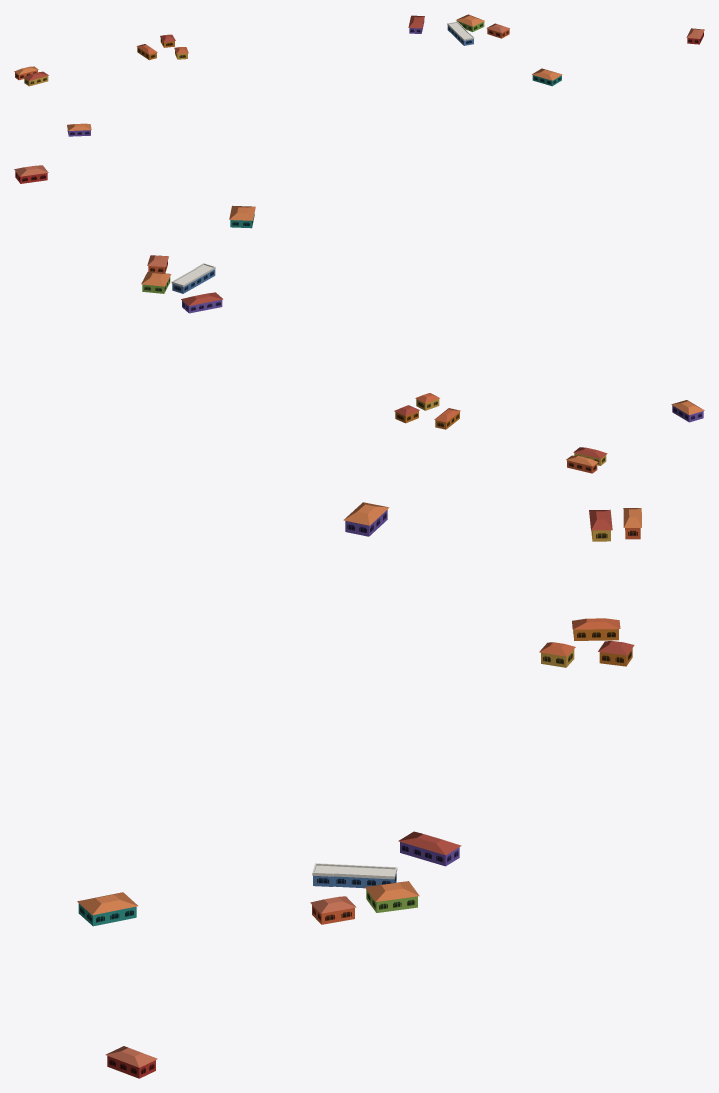
Rendered from msb_oranjestad_m14_5.glb.
3 renders of one model, top to bottom at view 1: azimuth 30°, elevation 25°; view 2: azimuth 150°, elevation 25°; view 3: azimuth 270°, elevation 25°, orthographic. The views are drawn at different scales.
Parts seen in each view (by area): view 1: msb_oranjestad_m14_5_lod0; view 2: msb_oranjestad_m14_5_lod0; view 3: msb_oranjestad_m14_5_lod0.
Boxes of the visible parts, left/top/right/bottom form: msb_oranjestad_m14_5_lod0: left=14, top=14, right=704, bottom=136; msb_oranjestad_m14_5_lod0: left=14, top=165, right=704, bottom=473; msb_oranjestad_m14_5_lod0: left=77, top=502, right=641, bottom=1078.
Size of what is drawn, in the model's own units: 359 by 9.43 by 151.
3 materials, 1 textured.
